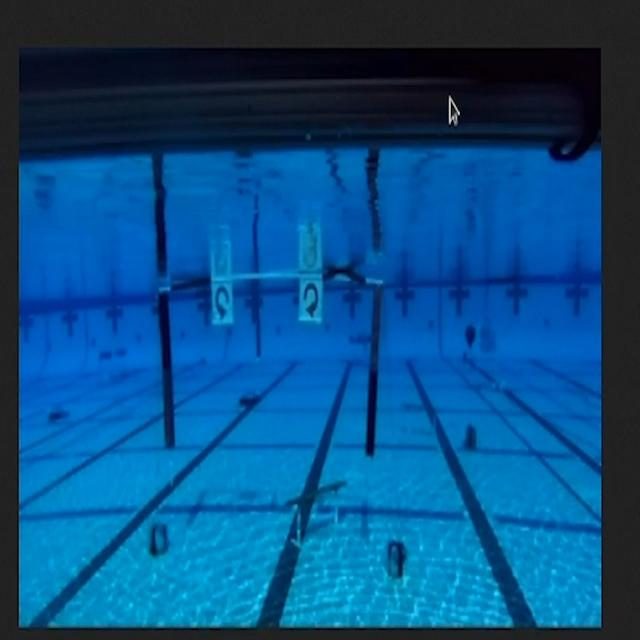Gate: (141, 235, 401, 473)
Path: (272, 471, 362, 557)
